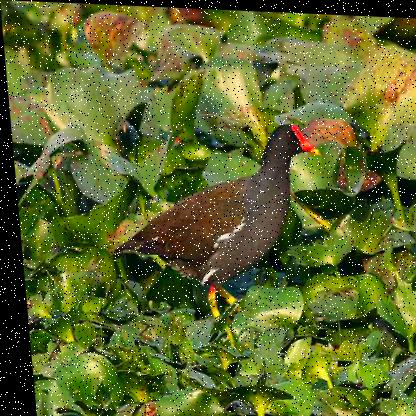Burung: (97, 114, 330, 328)
